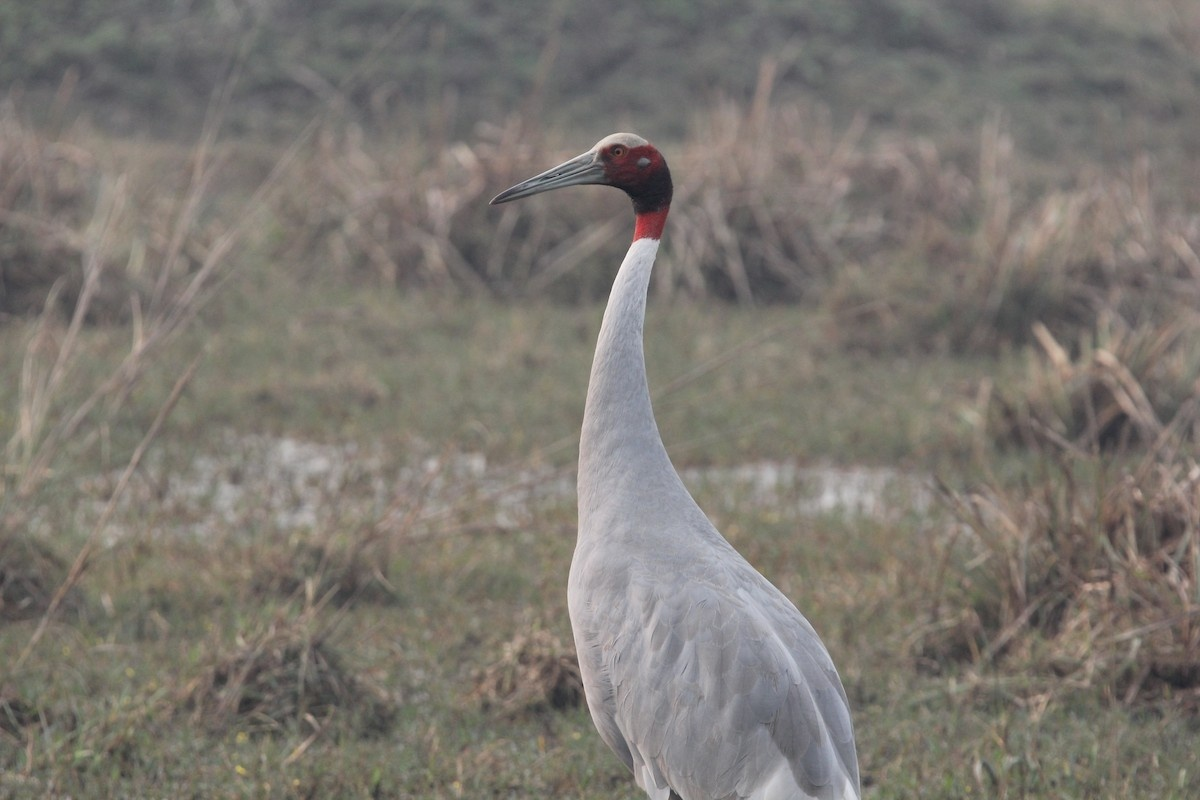crane: (495, 127, 866, 800)
